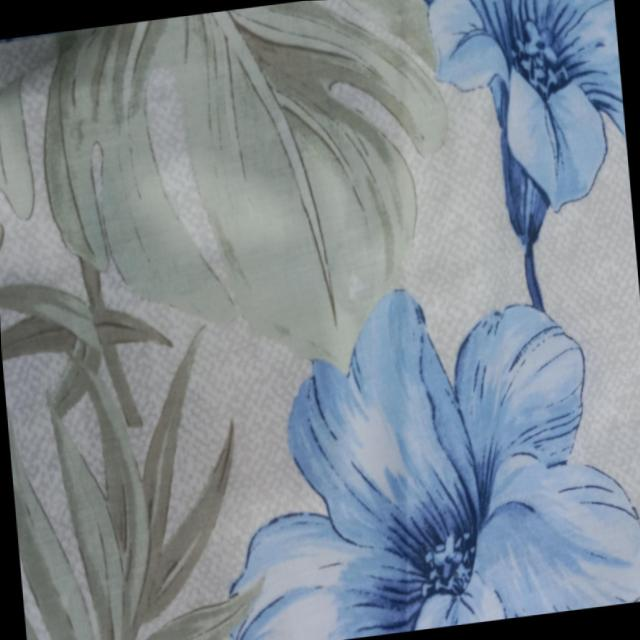baekra: (0, 44, 345, 640)
